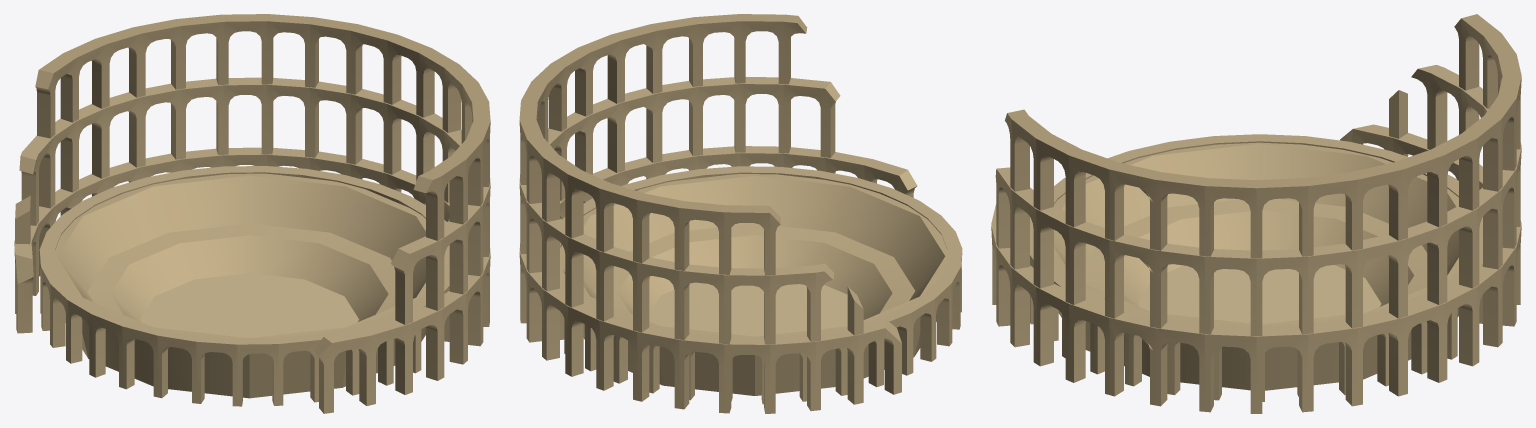
Rendered from coliseum.obj.
3 views of the same model, side by side, from view 1: azimuth 30°, elevation 25°; view 2: azimuth 150°, elevation 25°; view 3: azimuth 270°, elevation 25° (orthographic). The views are drawn at different scales.
Parts seen in each view (by area): view 1: SM_Coliseum:SM_Coliseum; view 2: SM_Coliseum:SM_Coliseum; view 3: SM_Coliseum:SM_Coliseum.
Boxes of the visible parts, box(x1,y1,x2,y2) form: SM_Coliseum:SM_Coliseum: box(14, 14, 490, 413); SM_Coliseum:SM_Coliseum: box(519, 14, 962, 413); SM_Coliseum:SM_Coliseum: box(991, 14, 1521, 413).
Size of the model in its own units: 43.79 by 21.61 by 45.43.
